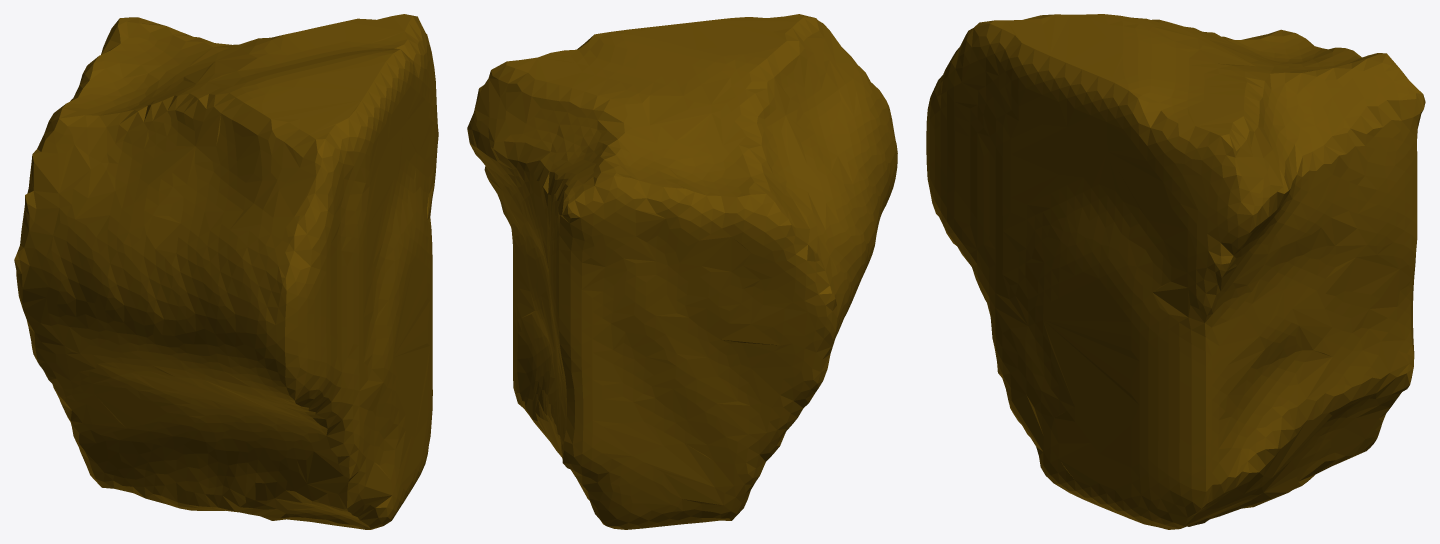
File: Model_100_RH__Occipito-parietal_transitional_area_of_cortex_(OPt).obj
The picture shows the model from 3 angles, left to right: view 1: azimuth 30°, elevation 25°; view 2: azimuth 150°, elevation 25°; view 3: azimuth 270°, elevation 25°; orthographic projection. The views are drawn at different scales.
Size of the model in its own units: 2.84 by 3.01 by 3.1.
